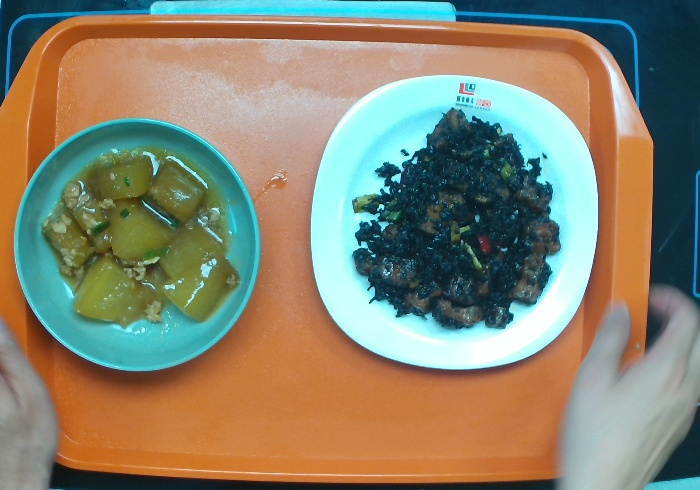ZNLD-Qing_Hua_Yuan_Wan: (7, 114, 266, 379)
ZNLD-Yuan_Jiao_Pan: (304, 71, 603, 373)
